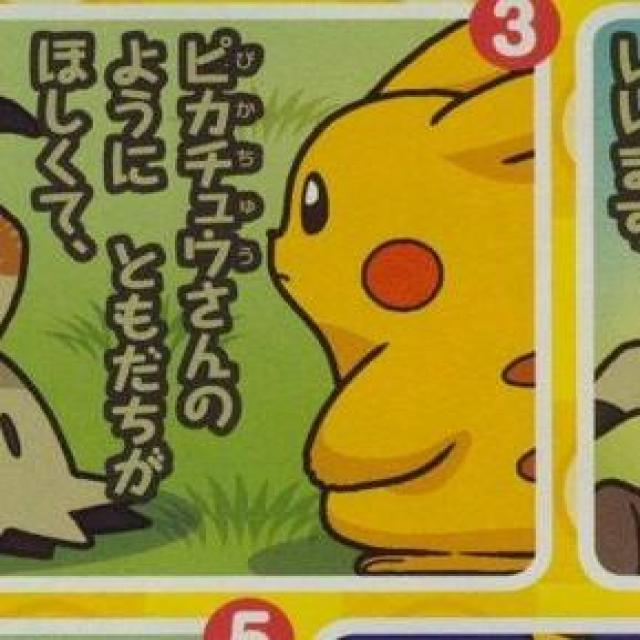pikachu: (268, 22, 532, 574)
